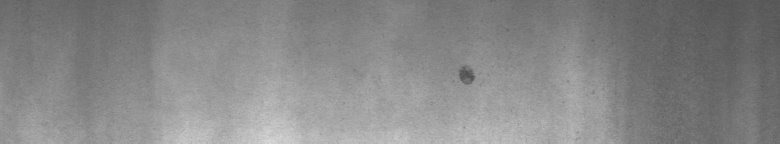fi: (453, 57, 480, 89)
